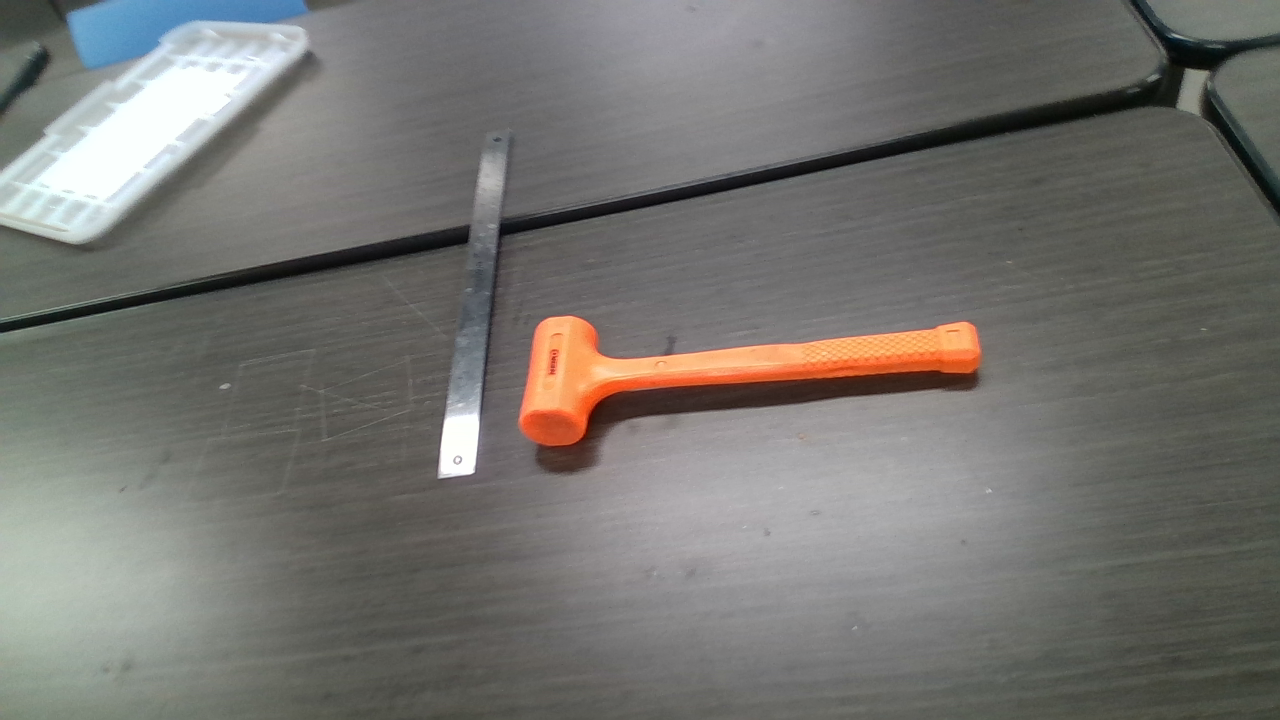Orange Hammer: (522, 315, 979, 445)
